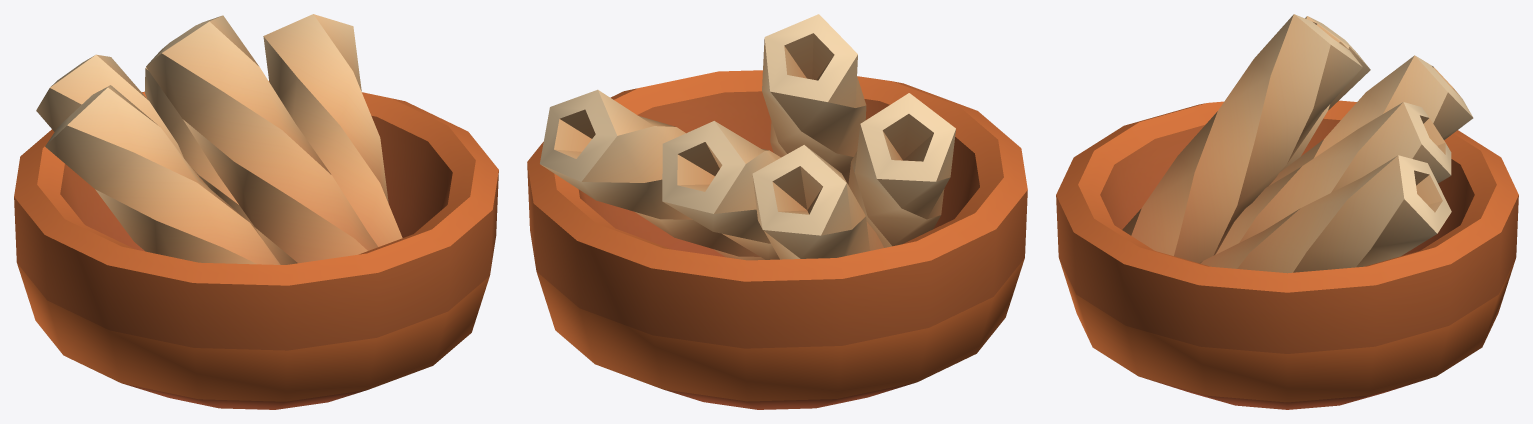
The model's file is icecream_bowl_cookiesticks.obj.
3 renders of one model, left to right at view 1: azimuth 30°, elevation 25°; view 2: azimuth 150°, elevation 25°; view 3: azimuth 270°, elevation 25°, orthographic. The views are drawn at different scales.
Visible parts, largest first — view 1: icecream_bowl_cookiesticks_Sphere.124; view 2: icecream_bowl_cookiesticks_Sphere.124; view 3: icecream_bowl_cookiesticks_Sphere.124.
Part boxes in pixels (x1,y1,x2,y2): icecream_bowl_cookiesticks_Sphere.124: (14,14,498,409); icecream_bowl_cookiesticks_Sphere.124: (527,14,1027,409); icecream_bowl_cookiesticks_Sphere.124: (1056,14,1518,409).
Size of the model in its own units: 0.75 by 0.5692 by 0.75.
Materials: 1 (1 with a texture image).
